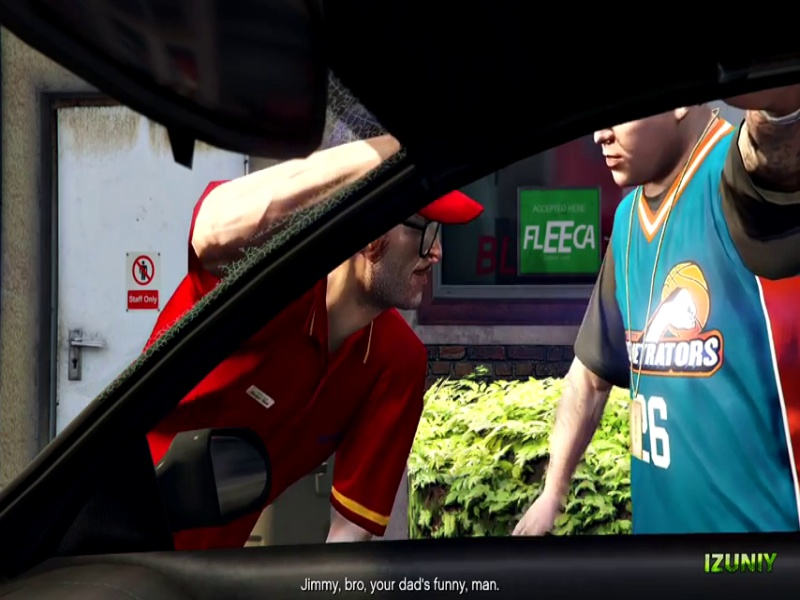human: (497, 87, 800, 536)
